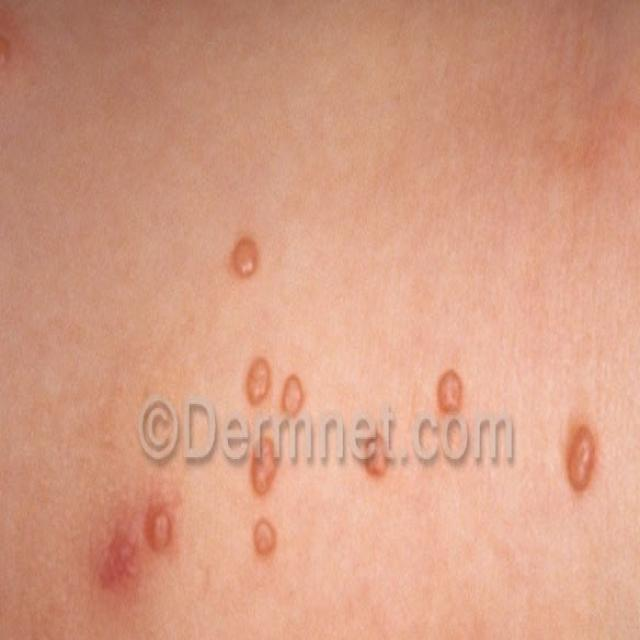Viral Infections: (236, 354, 310, 567), (92, 487, 183, 622), (556, 409, 615, 518), (220, 206, 273, 301), (354, 428, 407, 491), (429, 366, 472, 425), (0, 18, 27, 96)
